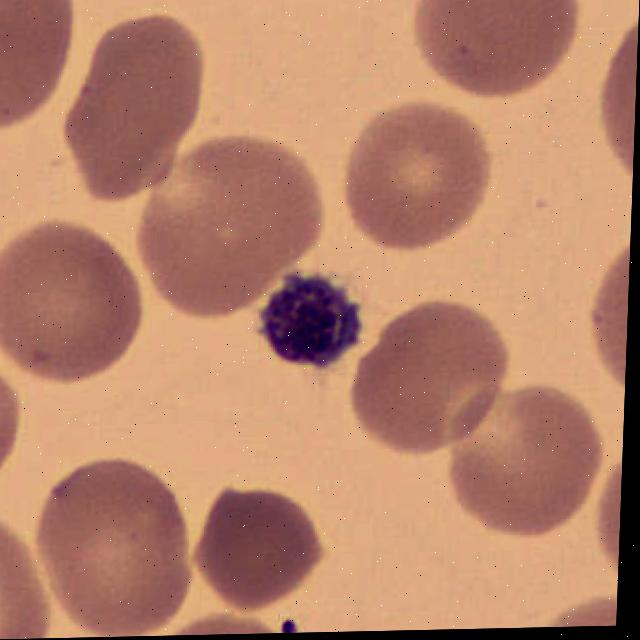platelets: (257, 263, 367, 375)
rbc: (131, 129, 325, 325), (439, 374, 609, 560), (53, 26, 218, 209), (36, 458, 203, 638), (334, 305, 516, 460), (0, 210, 150, 387), (345, 101, 496, 261), (402, 0, 593, 105), (185, 477, 327, 618), (0, 0, 85, 132), (581, 21, 639, 192), (588, 237, 631, 411), (0, 510, 54, 640), (591, 435, 623, 587), (0, 360, 26, 515), (537, 581, 618, 627), (144, 616, 285, 636)
